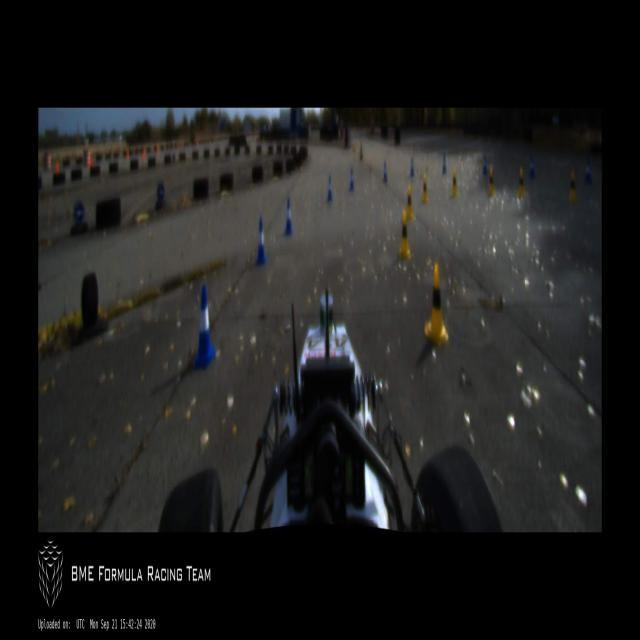blue_cone: (192, 284, 215, 369), (256, 219, 266, 266), (284, 198, 292, 236), (584, 159, 591, 183), (327, 175, 333, 202), (349, 168, 354, 192), (529, 156, 534, 178), (383, 162, 388, 183), (442, 155, 447, 174), (410, 157, 414, 177), (483, 155, 487, 174)
yellow_cone: (425, 262, 449, 346), (398, 208, 411, 261), (517, 166, 526, 197), (406, 184, 414, 218), (569, 170, 577, 202), (487, 169, 495, 197), (421, 175, 429, 203), (451, 168, 458, 198)
